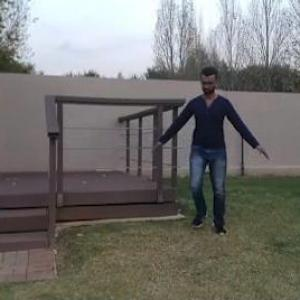land: (150, 59, 262, 252)
